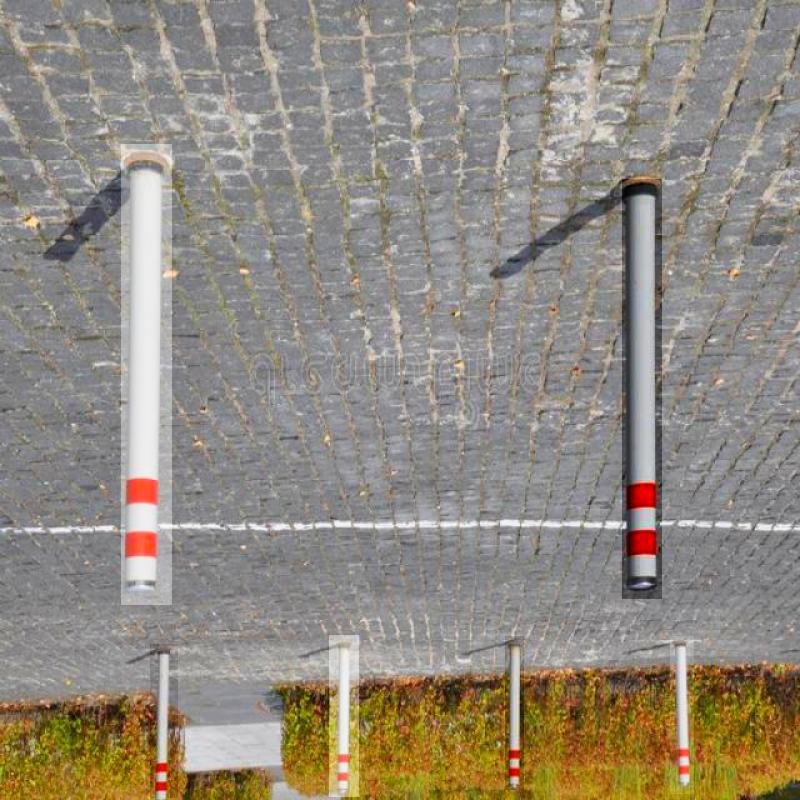pillar: (121, 144, 172, 605), (622, 179, 662, 599), (329, 635, 359, 797), (150, 644, 178, 798), (670, 636, 694, 794), (505, 636, 524, 790)
